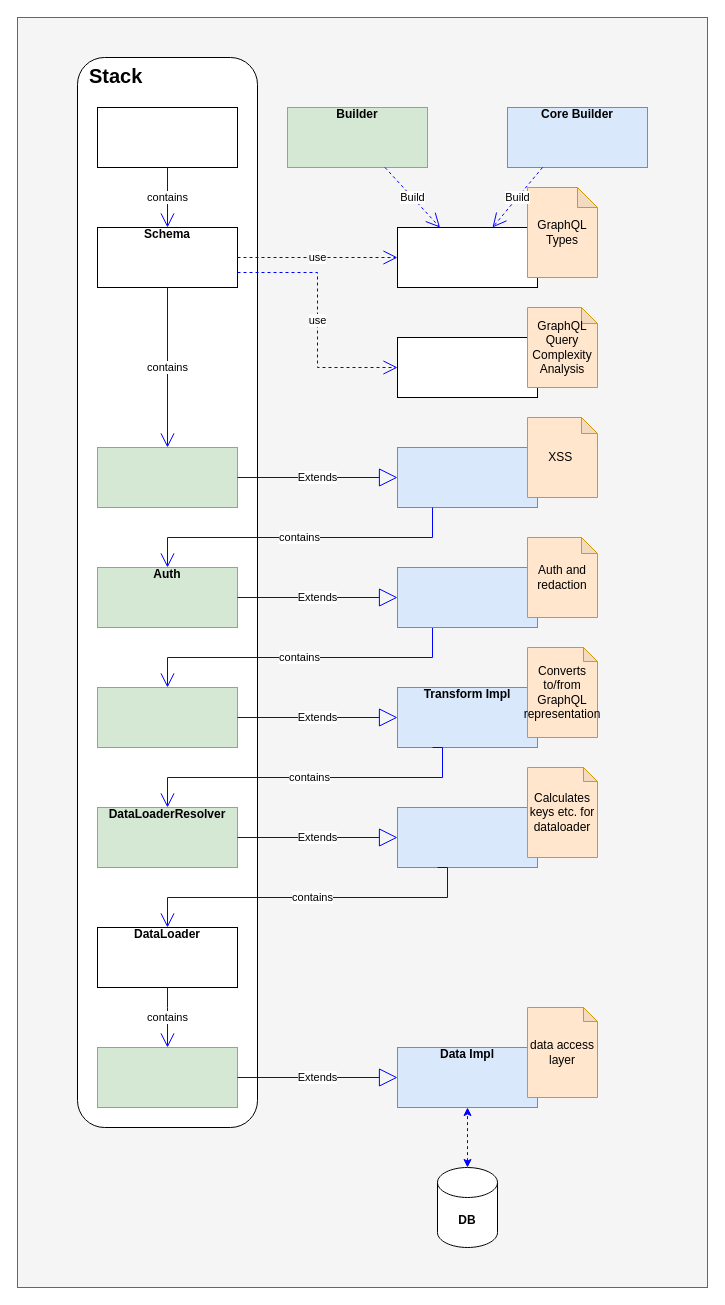
Image size: 725x1305. Some labels were removed from this diagram. Here are the shapes that lost their labels. From the top down, the centre of each, then its label:
At point 167,137: "Express".
At point 467,257: "Catalogue".
At point 467,367: "Complexity".
At point 167,477: "Security".
At point 467,477: "Security Impl".
At point 467,597: "Auth Impl".
At point 167,717: "Transform".
At point 467,837: "DataLoaderResolver Impl".
At point 167,1077: "Data".
